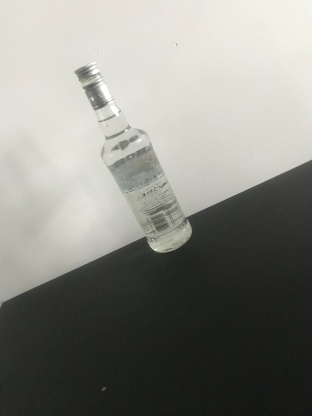nakretka: (73, 58, 115, 112)
